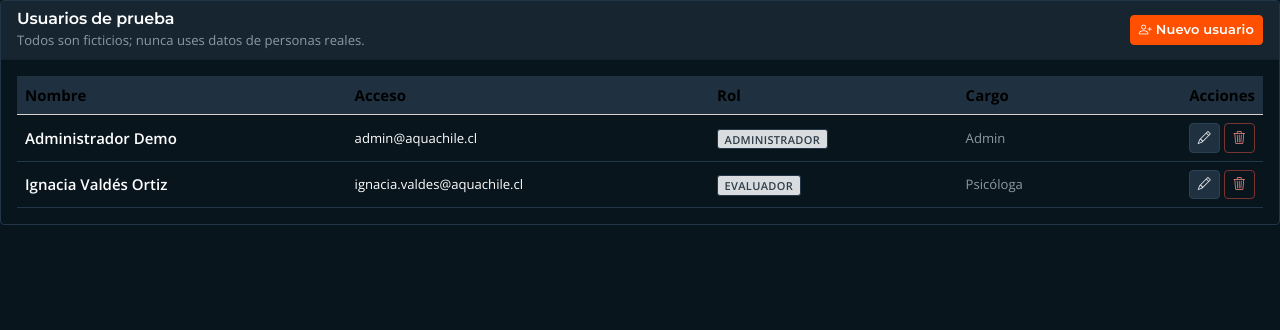
GestionUsuarios › elimina con confirmación y muestra el error del servidor si lo rechaza
Click the button named "Eliminar a Administrador Demo" at (1239, 138), box left=1224, top=123, right=1255, bottom=153
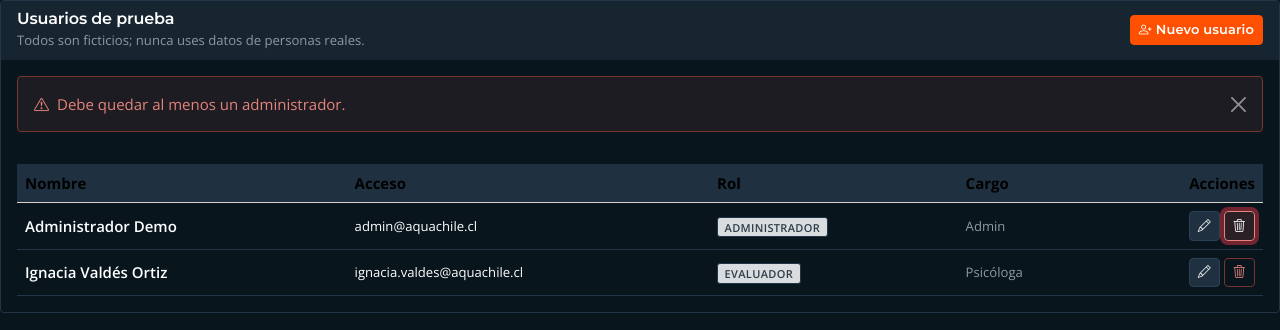
Check: the text "Debe quedar al menos un administrador." is shown, box left=57, top=94, right=345, bottom=114
Click the button named "Eliminar a Ignacia Valdés Ortiz" at (1239, 272), box left=1224, top=258, right=1255, bottom=287
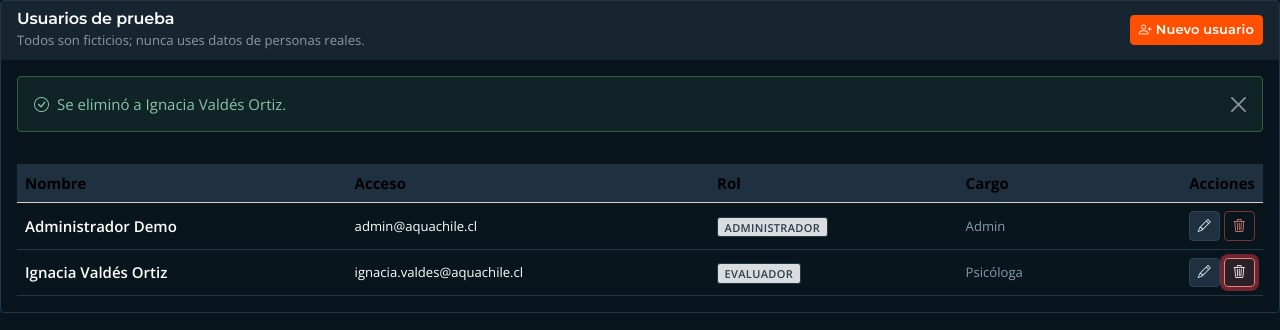
Check: the text "Se eliminó a Ignacia Valdés Ortiz." is shown, box left=57, top=94, right=286, bottom=114
